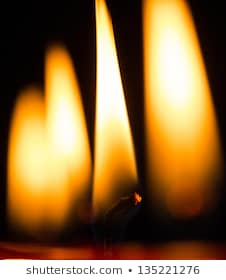Fire: (143, 1, 218, 218), (93, 1, 140, 220), (42, 43, 93, 223), (9, 89, 47, 227)
